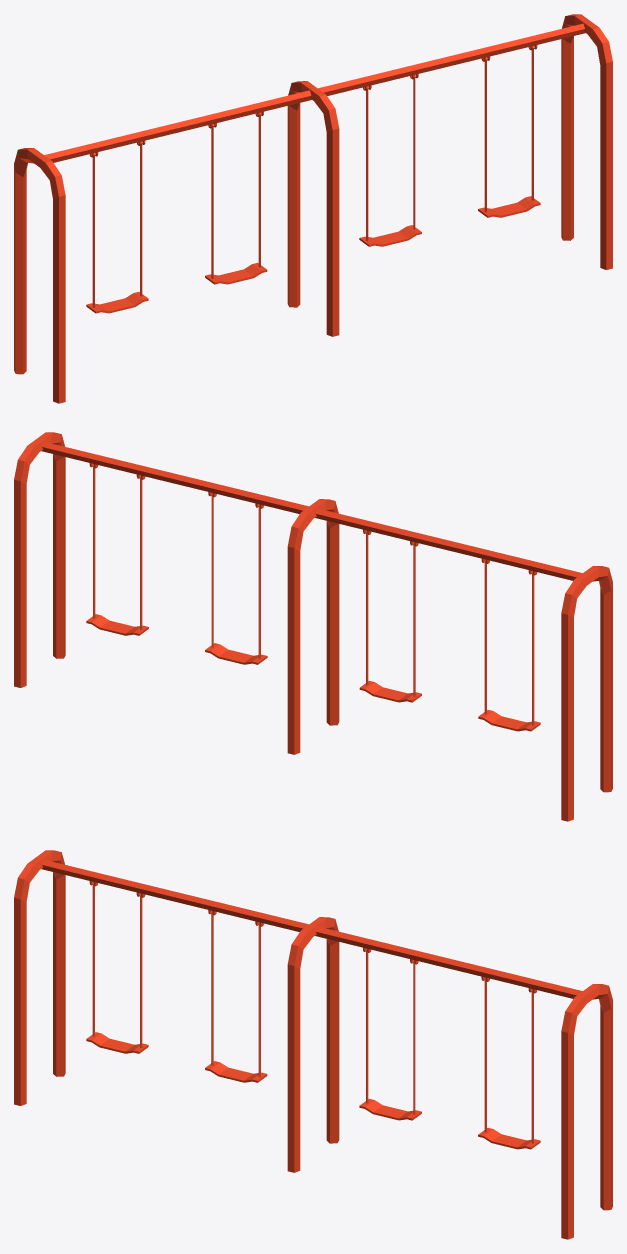
The model's file is SM_Swing_City.fbx.
The picture shows the model from 3 angles, top to bottom: view 1: azimuth 30°, elevation 25°; view 2: azimuth 150°, elevation 25°; view 3: azimuth 330°, elevation 25°; orthographic projection.
Parts seen in each view (by area): view 1: SM_Swing_City_Base, SM_Swing_City_C, SM_Swing_City_B, SM_Swing_City_A, SM_Swing_City_D; view 2: SM_Swing_City_Base, SM_Swing_City_C, SM_Swing_City_B, SM_Swing_City_A, SM_Swing_City_D; view 3: SM_Swing_City_Base, SM_Swing_City_B, SM_Swing_City_C, SM_Swing_City_D, SM_Swing_City_A.
Part boxes in pixels (<box>): SM_Swing_City_Base: <box>14,14,612,403</box>; SM_Swing_City_C: <box>359,74,421,246</box>; SM_Swing_City_B: <box>205,112,267,284</box>; SM_Swing_City_A: <box>86,141,148,313</box>; SM_Swing_City_D: <box>478,46,540,217</box>; SM_Swing_City_Base: <box>14,432,612,821</box>; SM_Swing_City_C: <box>205,492,267,664</box>; SM_Swing_City_B: <box>359,530,421,702</box>; SM_Swing_City_A: <box>478,559,540,731</box>; SM_Swing_City_D: <box>86,464,148,635</box>; SM_Swing_City_Base: <box>14,850,612,1239</box>; SM_Swing_City_B: <box>205,910,267,1082</box>; SM_Swing_City_C: <box>359,948,421,1120</box>; SM_Swing_City_D: <box>478,977,540,1149</box>; SM_Swing_City_A: <box>86,882,148,1053</box>.
Size of the model in its own units: 7.19 by 2.84 by 1.
